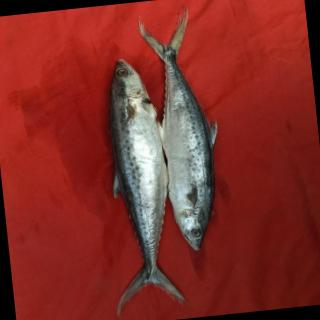Ikan: (74, 1, 249, 316)
